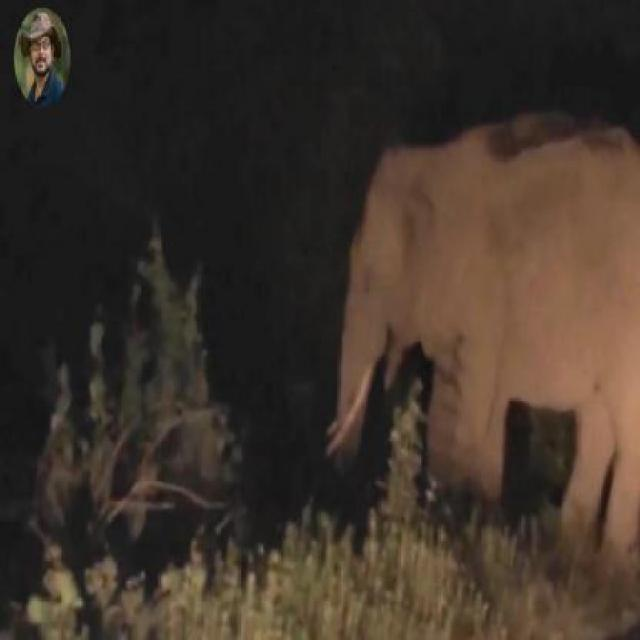Elephant: (326, 114, 640, 594)
